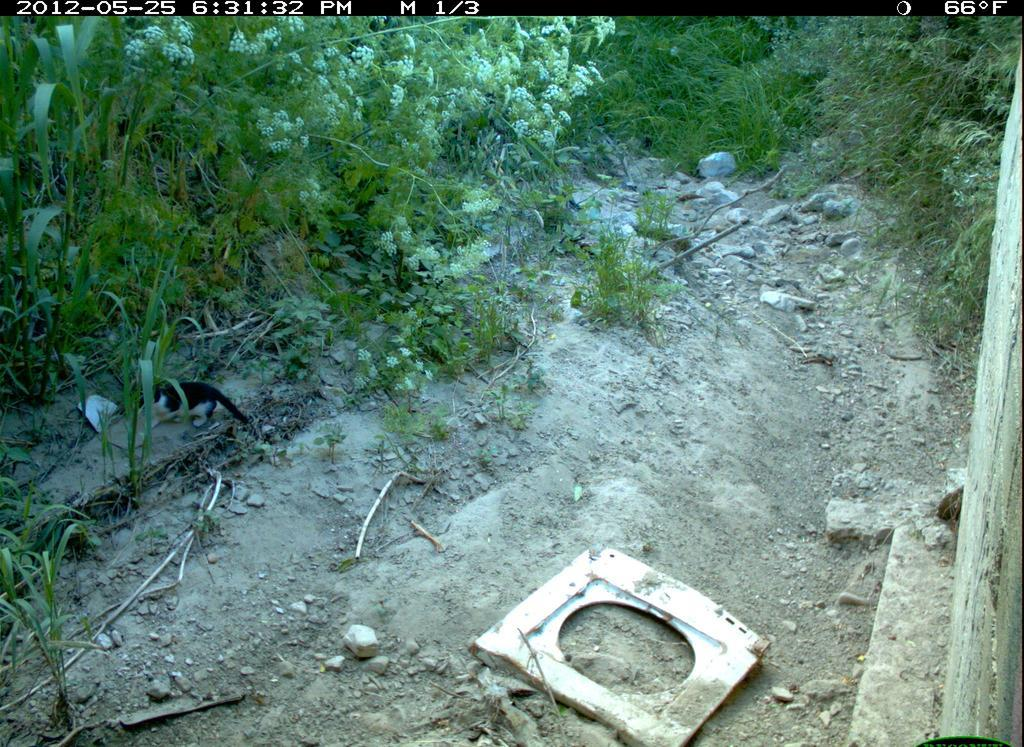cat: (137, 373, 257, 440)
